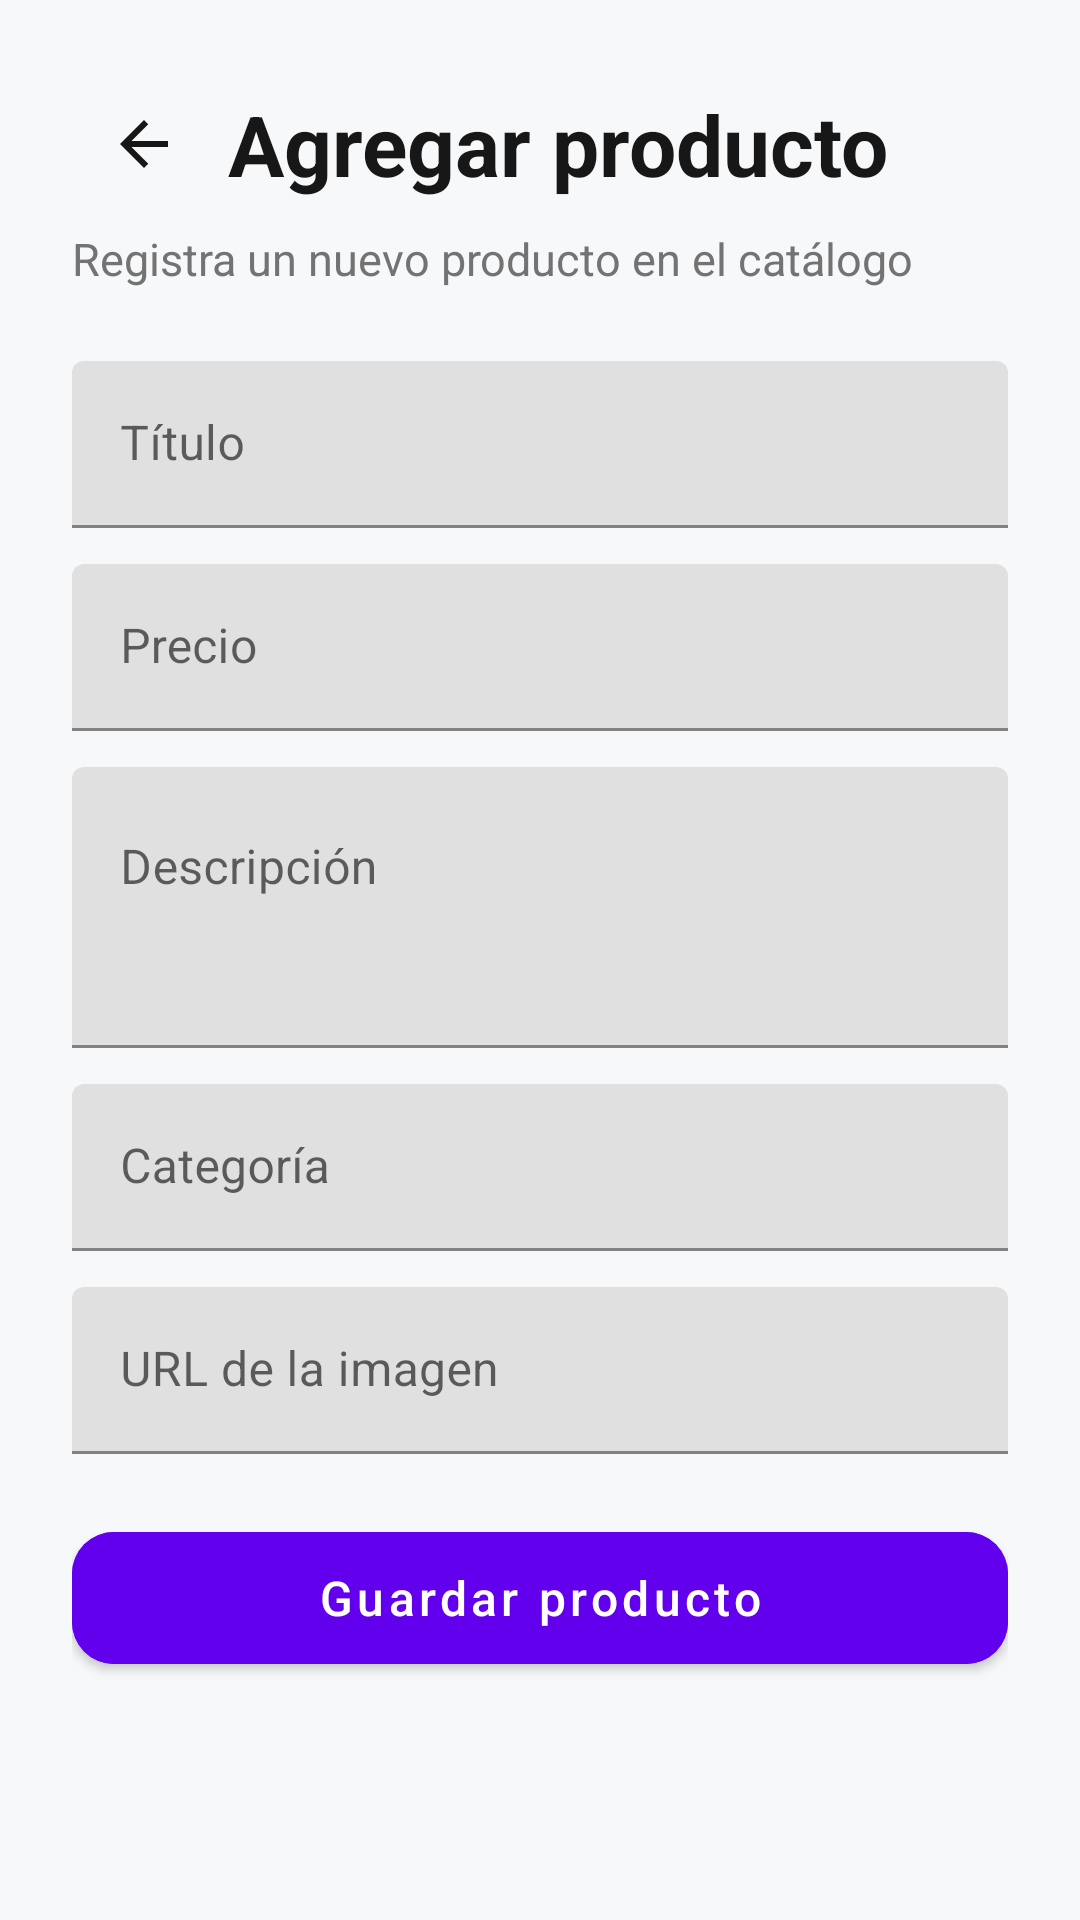

Screen size 1080px x 1920px. Icon name, then its center in pixels as point (x, y):
Regresar: point (144, 144)
